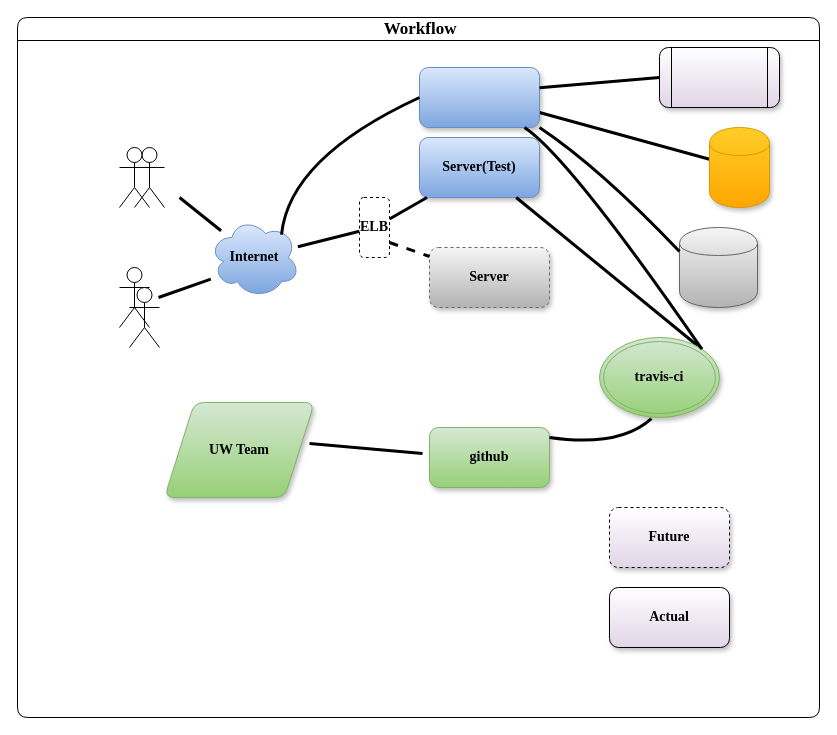
The diagram is 837 pixels wide and 735 high, and some of its shapes have lost their labels. The centre of each missing label's shape, as x and y in pixels:
"Amazon SES" belongs at (x=720, y=78).
"MongoDB" belongs at (x=719, y=268).
"S3" belongs at (x=740, y=168).
"Server(Prod)" belongs at (x=480, y=98).
